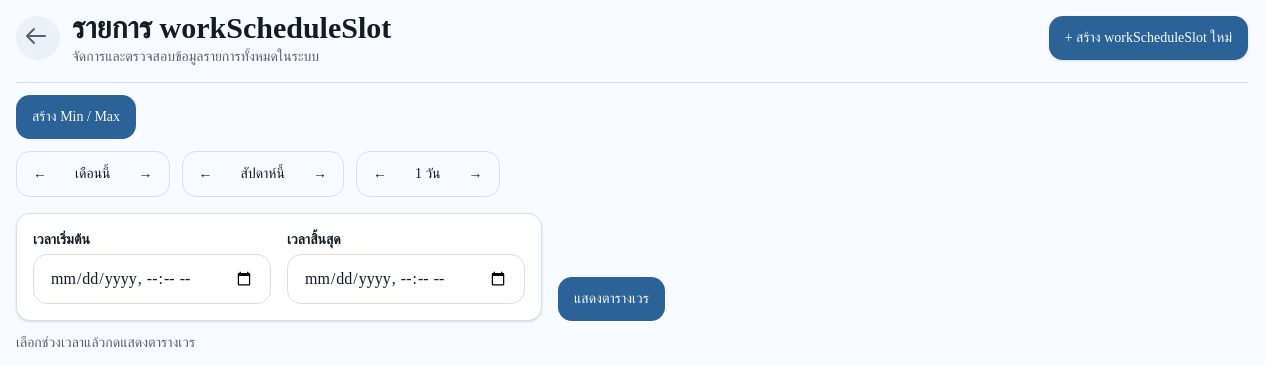
Test case: Admin slot calendar period controls › moves month arrows repeatedly from the current draft across period and year boundaries
expect the button "แสดงตารางเวร" is shown: met, box [558, 277, 665, 321]
Click the button named "เดือนก่อนหน้า" at (40, 174), box [21, 156, 59, 192]
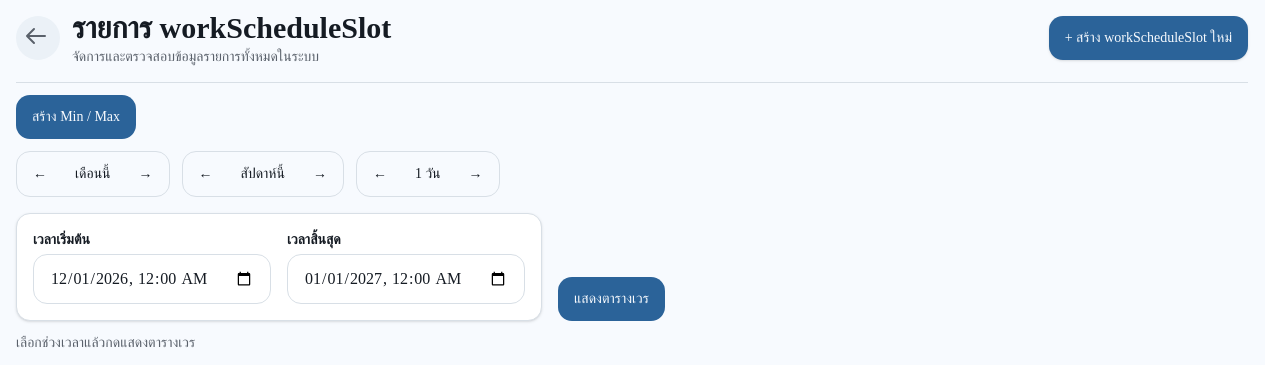
expect the number of fields is 2: met, box [33, 254, 271, 304]; [287, 254, 525, 304]
expect the field below "เวลาเริ่มต้น" holds "2026-12-01T00:00": met, box [33, 254, 271, 304]
expect the field below "เวลาสิ้นสุด" holds "2027-01-01T00:00": met, box [287, 254, 525, 304]
Click the button named "เดือนก่อนหน้า" at (40, 174), box [21, 156, 59, 192]
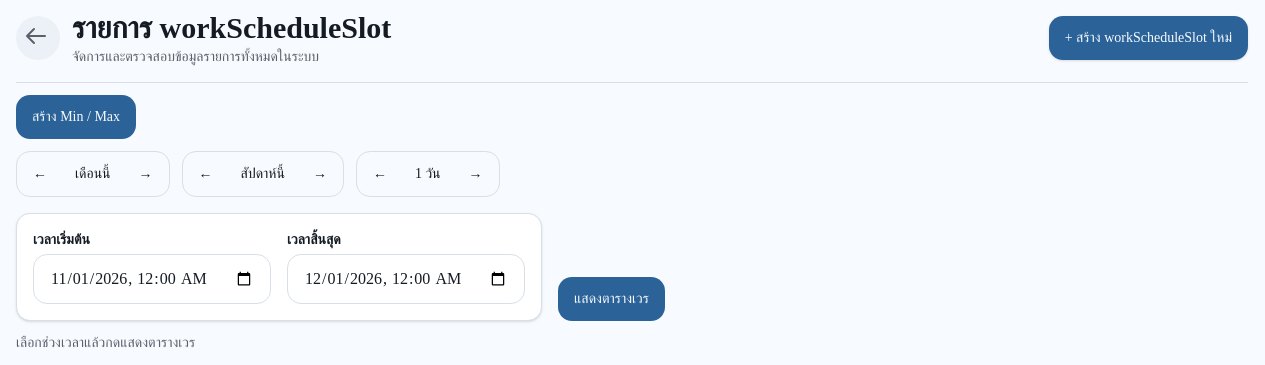
expect the number of fields is 2: met, box [33, 254, 271, 304]; [287, 254, 525, 304]
expect the field below "เวลาเริ่มต้น" holds "2026-11-01T00:00": met, box [33, 254, 271, 304]
expect the field below "เวลาสิ้นสุด" holds "2026-12-01T00:00": met, box [287, 254, 525, 304]
Click the button named "เดือนถัดไป" at (146, 174), box [126, 156, 164, 192]
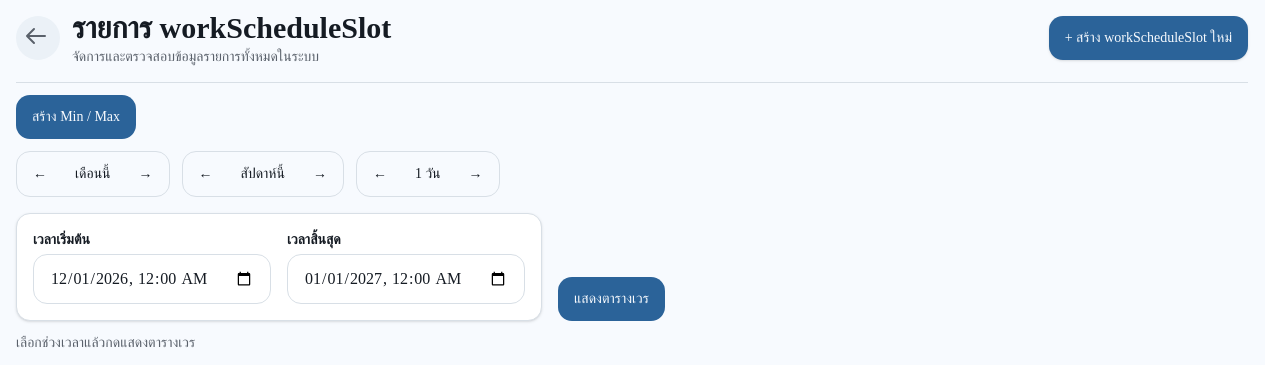
expect the number of fields is 2: met, box [33, 254, 271, 304]; [287, 254, 525, 304]
expect the field below "เวลาเริ่มต้น" holds "2026-12-01T00:00": met, box [33, 254, 271, 304]
expect the field below "เวลาสิ้นสุด" holds "2027-01-01T00:00": met, box [287, 254, 525, 304]
Click the button named "เดือนถัดไป" at (146, 174), box [126, 156, 164, 192]
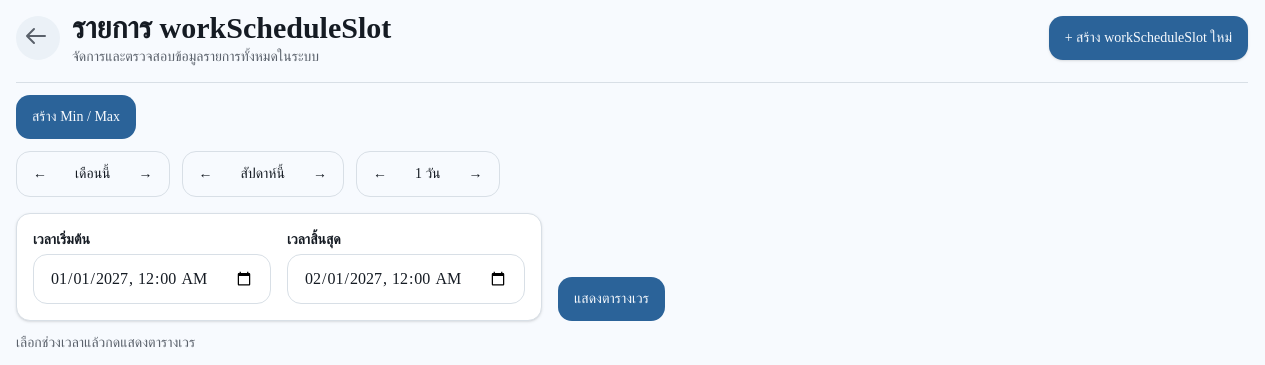
expect the number of fields is 2: met, box [33, 254, 271, 304]; [287, 254, 525, 304]
expect the field below "เวลาเริ่มต้น" holds "2027-01-01T00:00": met, box [33, 254, 271, 304]
expect the field below "เวลาสิ้นสุด" holds "2027-02-01T00:00": met, box [287, 254, 525, 304]
Click the button named "เดือนถัดไป" at (146, 174), box [126, 156, 164, 192]
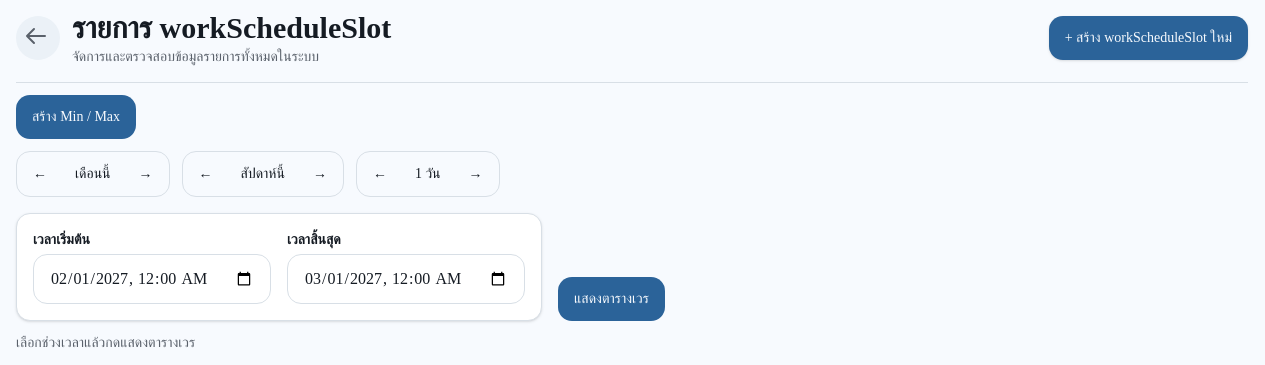
expect the number of fields is 2: met, box [33, 254, 271, 304]; [287, 254, 525, 304]
expect the field below "เวลาเริ่มต้น" holds "2027-02-01T00:00": met, box [33, 254, 271, 304]
expect the field below "เวลาสิ้นสุด" holds "2027-03-01T00:00": met, box [287, 254, 525, 304]
Click the button named "เดือนถัดไป" at (146, 174), box [126, 156, 164, 192]
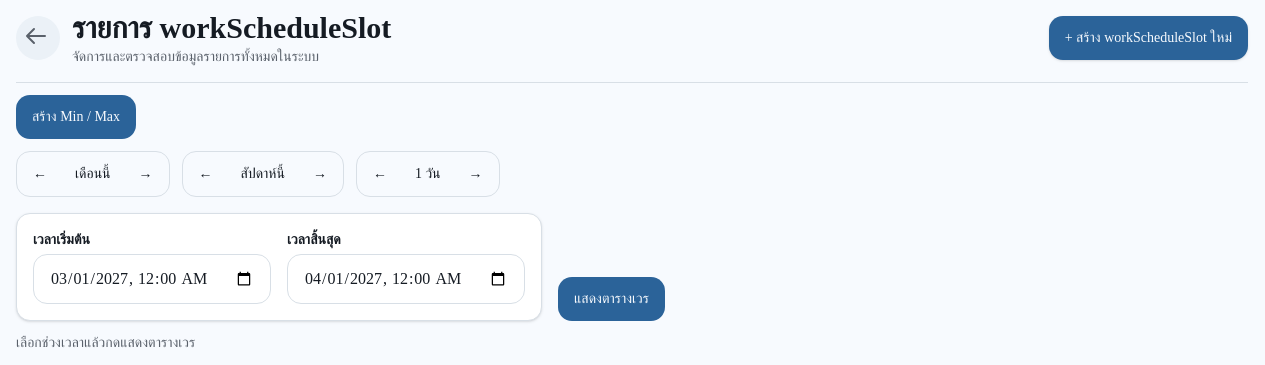
expect the number of fields is 2: met, box [33, 254, 271, 304]; [287, 254, 525, 304]
expect the field below "เวลาเริ่มต้น" holds "2027-03-01T00:00": met, box [33, 254, 271, 304]
expect the field below "เวลาสิ้นสุด" holds "2027-04-01T00:00": met, box [287, 254, 525, 304]
